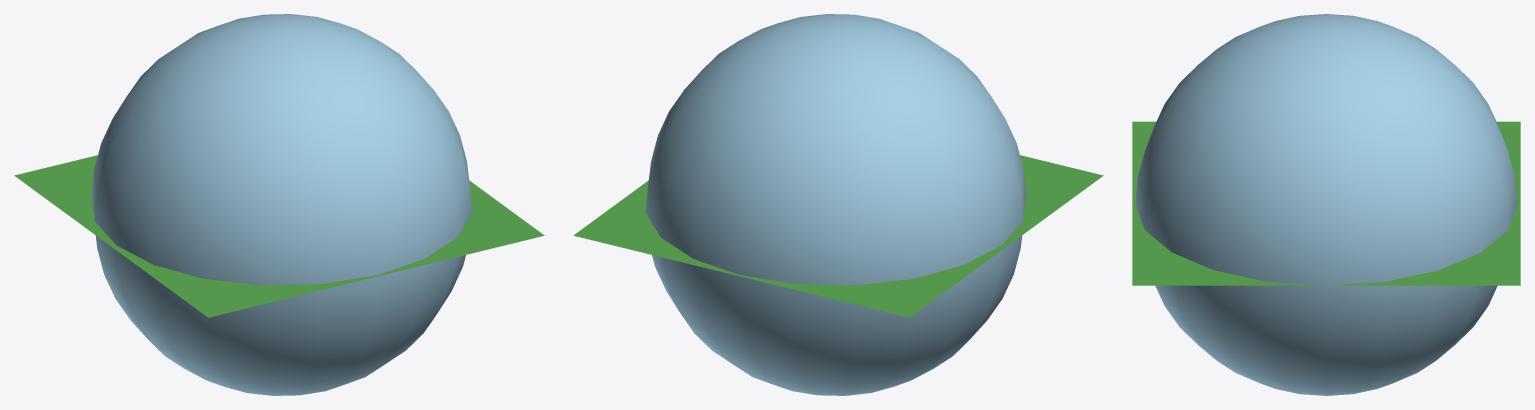
Rendered from ladderDrillwSky.dae.
3 views of the same model, side by side, from view 1: azimuth 30°, elevation 25°; view 2: azimuth 150°, elevation 25°; view 3: azimuth 270°, elevation 25° (orthographic).
Parts seen in each view (by area): view 1: sky, pasted__pPlane1; view 2: sky, pasted__pPlane1; view 3: sky, pasted__pPlane1.
Boxes of the visible parts, x1=… form: sky: x1=92, y1=14, x2=472, y2=395; pasted__pPlane1: x1=14, y1=155, x2=544, y2=317; sky: x1=645, y1=14, x2=1025, y2=395; pasted__pPlane1: x1=573, y1=155, x2=1103, y2=317; sky: x1=1135, y1=14, x2=1517, y2=395; pasted__pPlane1: x1=1132, y1=121, x2=1520, y2=285.
Bounding box in the file's own units: 76.84 × 75.66 × 76.83.
